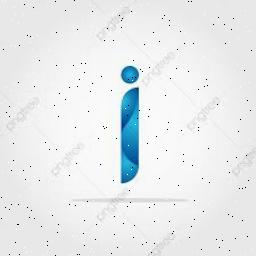i: (116, 85, 144, 187)
